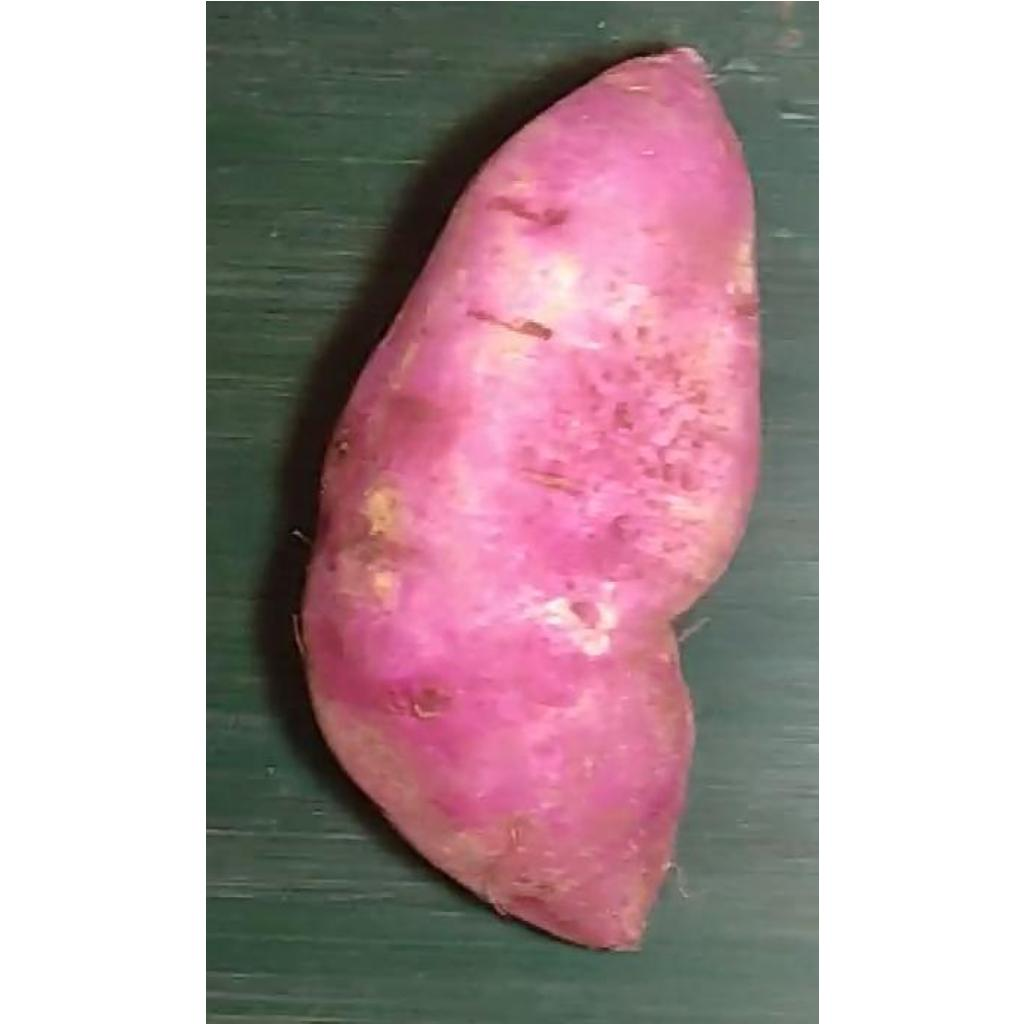Sweet Potato: (299, 44, 763, 952)
